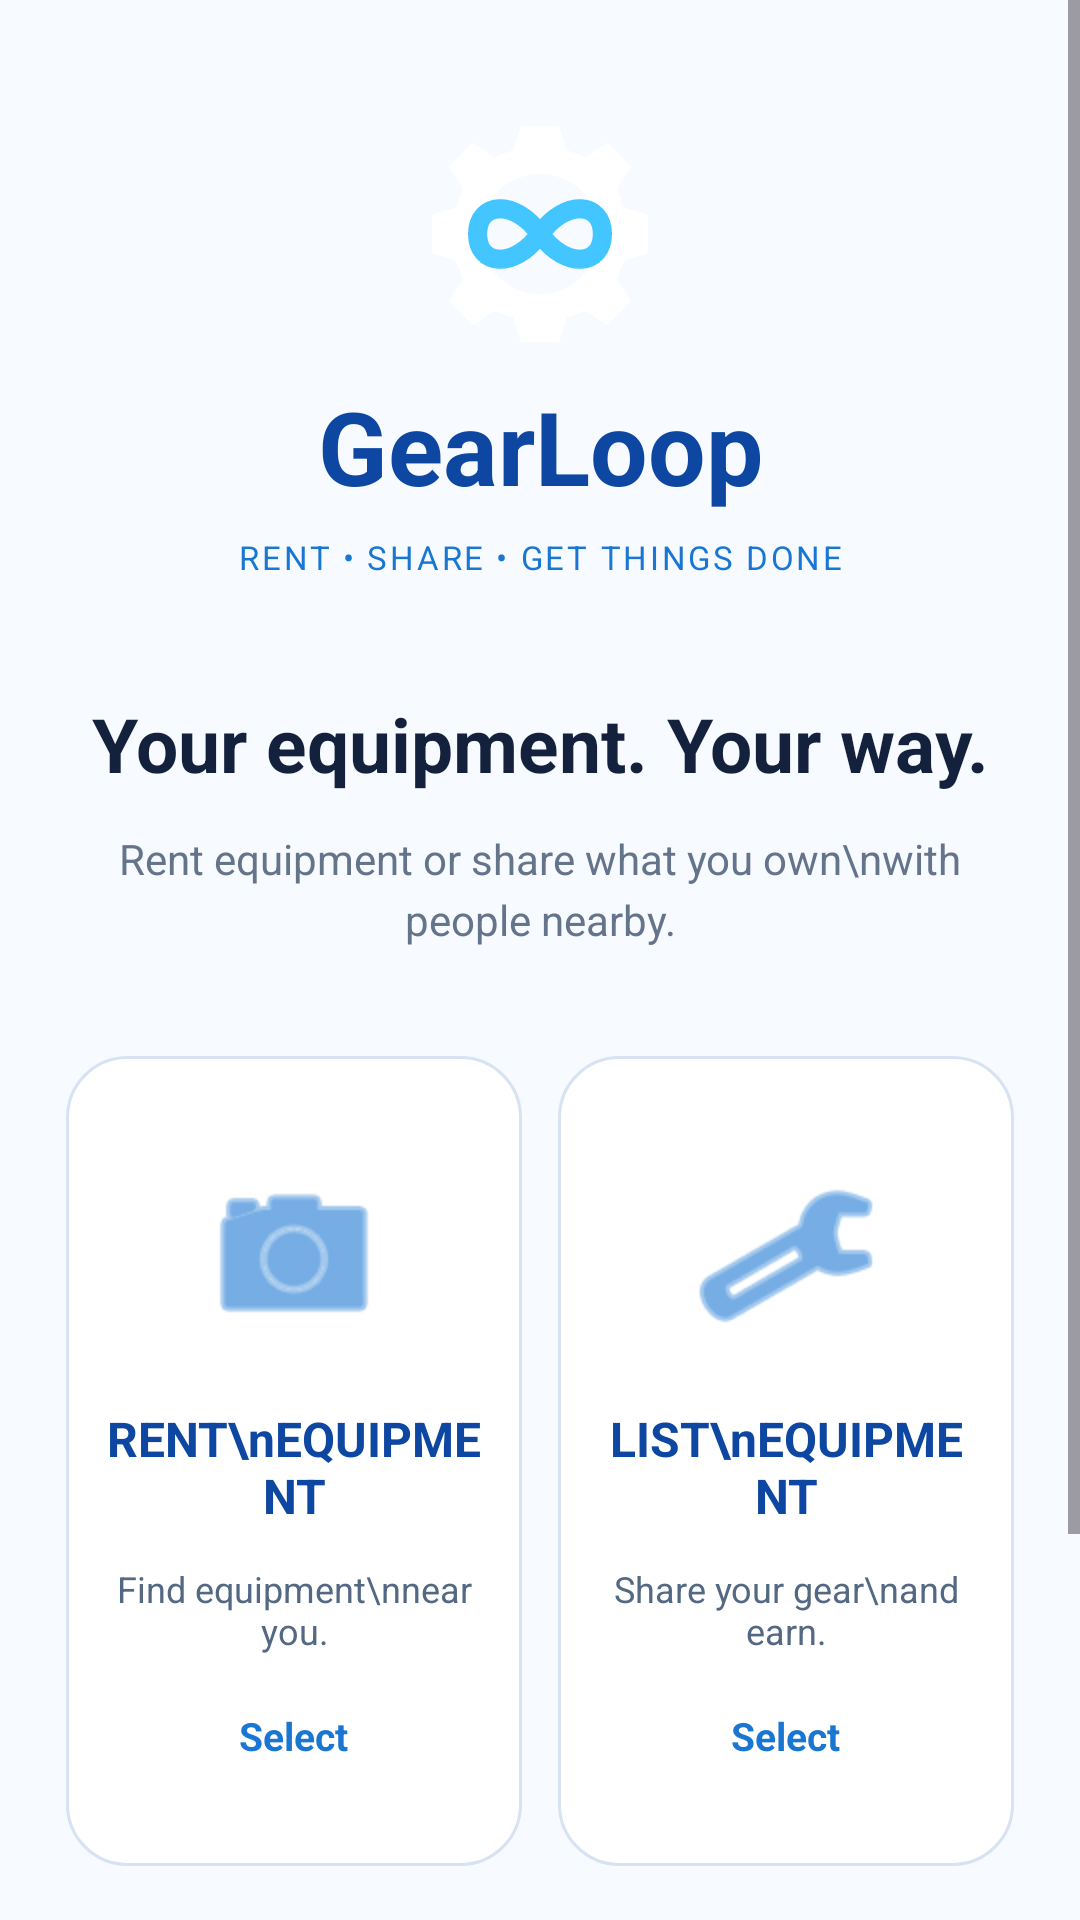

Screen size 1080×1920. Icon name, then its box in pixels as (x1, y1, x2, y2):
Camera icon: (220, 1194, 368, 1312)
Tools icon: (699, 1190, 873, 1322)
